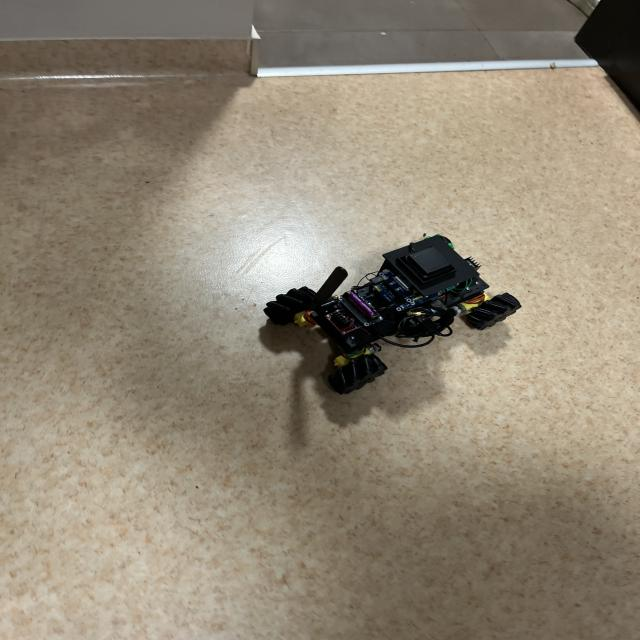robot: (264, 235, 521, 394)
